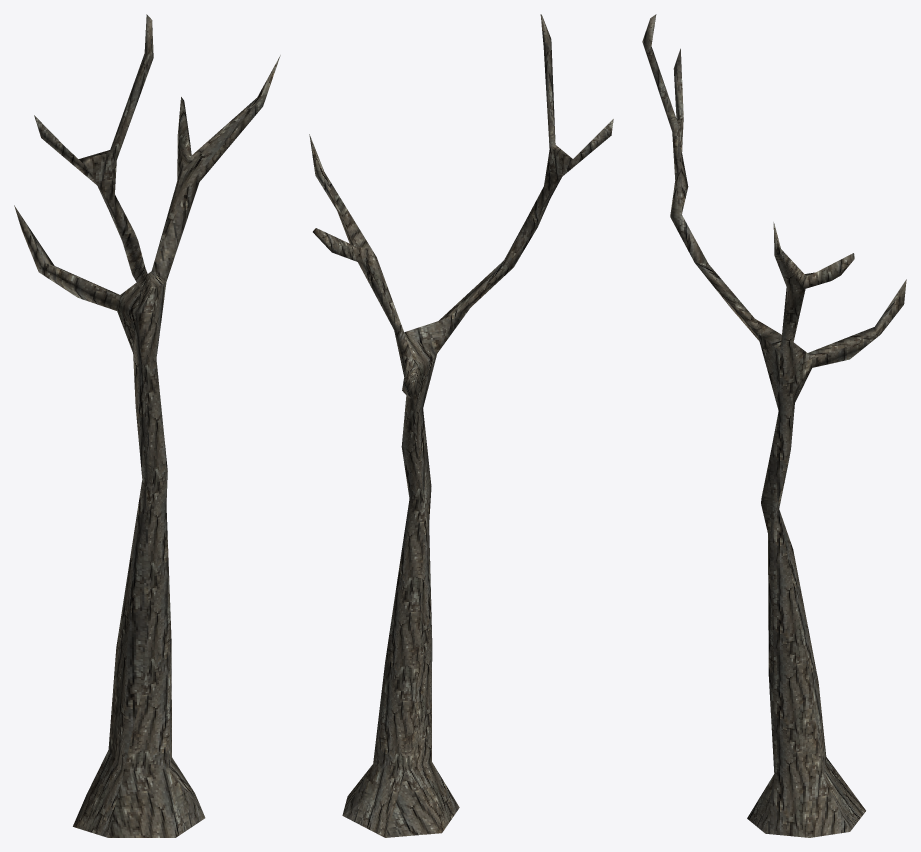
File: fixedTree2.fbx
3 views of the same model, side by side, from view 1: azimuth 30°, elevation 25°; view 2: azimuth 150°, elevation 25°; view 3: azimuth 270°, elevation 25° (orthographic). The views are drawn at different scales.
Parts seen in each view (by area): view 1: Tree2; view 2: Tree2; view 3: Tree2.
Part boxes in pixels (x1,y1,x2,y2): Tree2: [14, 14, 280, 837]; Tree2: [309, 14, 613, 837]; Tree2: [642, 14, 906, 837].
Size of the model in its own units: 6.51 by 5.68 by 18.38.
